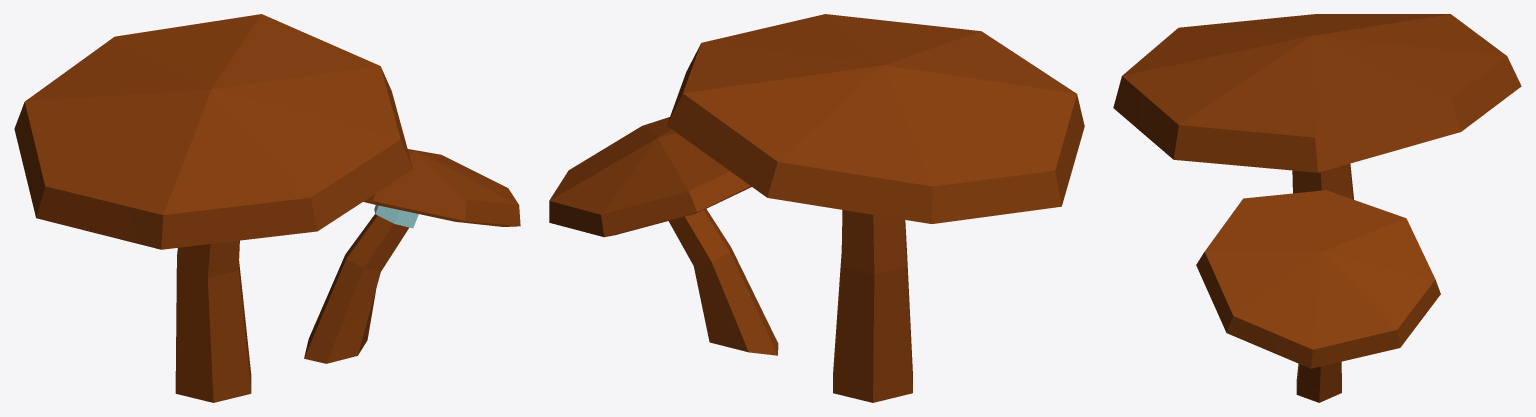
Rendered from Mushroom_e_b_01.fbx.
3 views of the same model, side by side, from view 1: azimuth 30°, elevation 25°; view 2: azimuth 150°, elevation 25°; view 3: azimuth 270°, elevation 25° (orthographic). The views are drawn at different scales.
Visible parts, largest first — view 1: Mushroom_e_b_01_LOD0; view 2: Mushroom_e_b_01_LOD0; view 3: Mushroom_e_b_01_LOD0.
Part boxes in pixels (left/top/right/bottom): Mushroom_e_b_01_LOD0: left=14, top=14, right=520, bottom=402; Mushroom_e_b_01_LOD0: left=549, top=14, right=1084, bottom=402; Mushroom_e_b_01_LOD0: left=1113, top=14, right=1521, bottom=402.
Size of what is drawn, in the model's own units: 20.31 by 12.38 by 15.45.
